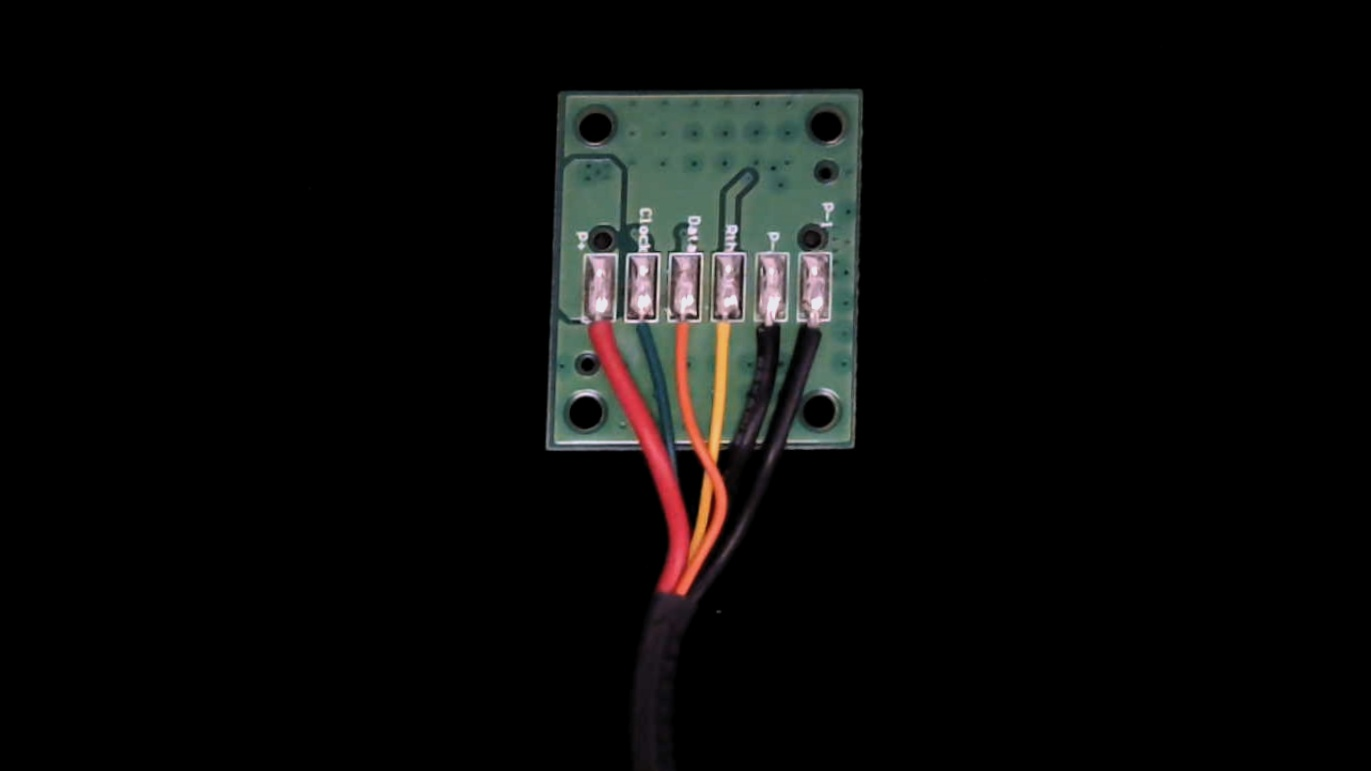Black: (752, 300, 787, 378)
Black1: (794, 304, 833, 378)
Green: (624, 305, 657, 371)
Orange: (666, 299, 704, 377)
Red: (583, 306, 619, 369)
Yellow: (707, 302, 745, 375)
